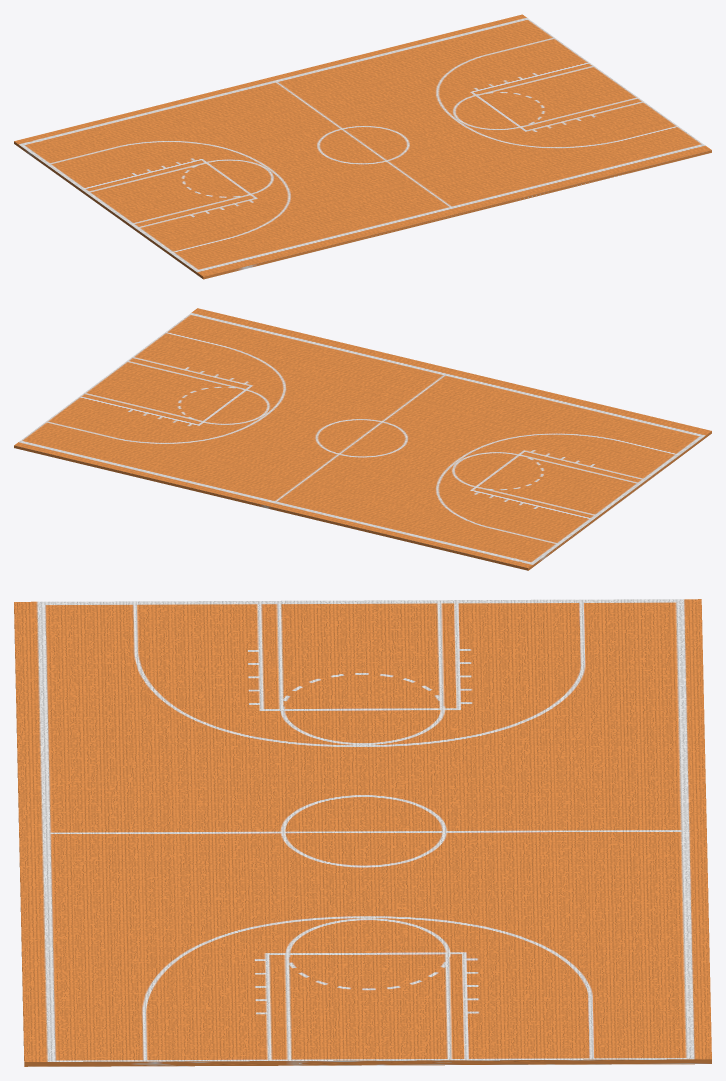
File: BasketField.fbx
3 views of the same model, one above another, from view 1: azimuth 30°, elevation 25°; view 2: azimuth 150°, elevation 25°; view 3: azimuth 270°, elevation 25° (orthographic). The views are drawn at different scales.
Visible parts, largest first — view 1: pCube6; view 2: pCube6; view 3: pCube6.
Boxes of the visible parts, x1,y1,x2,y2 form: pCube6: [14, 14, 711, 279]; pCube6: [14, 308, 711, 570]; pCube6: [14, 599, 711, 1066].
Size of the model in its own units: 727 by 3.5 by 464.
